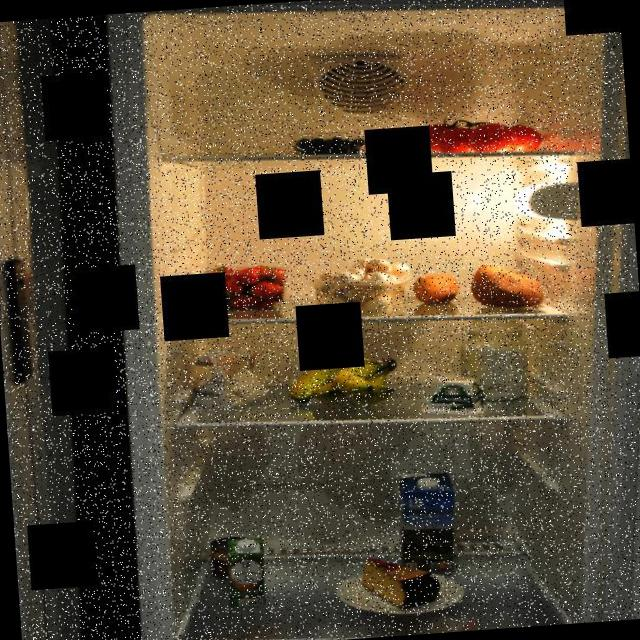Champiñones: (307, 244, 414, 326)
Leche: (392, 468, 464, 576)
Plátano: (285, 348, 404, 412)
Queso: (354, 550, 446, 616), (418, 370, 496, 421)
Tomate: (418, 106, 550, 164)
blueberries: (286, 126, 376, 160)
corn: (208, 532, 259, 582)
flour: (180, 334, 278, 416)
heavy_cream: (223, 534, 269, 608)
strawberries: (198, 258, 296, 320)
sugar: (455, 310, 535, 406)
sweet_potato: (466, 260, 549, 314), (409, 268, 466, 310)
